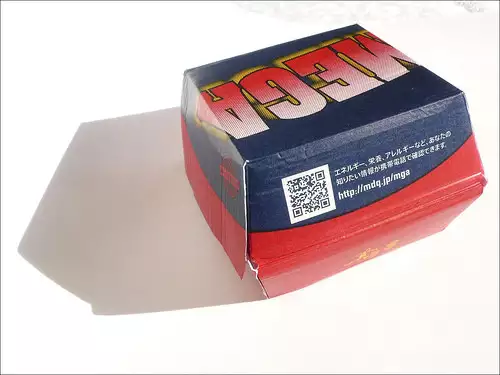QRCode: (286, 169, 331, 218)
